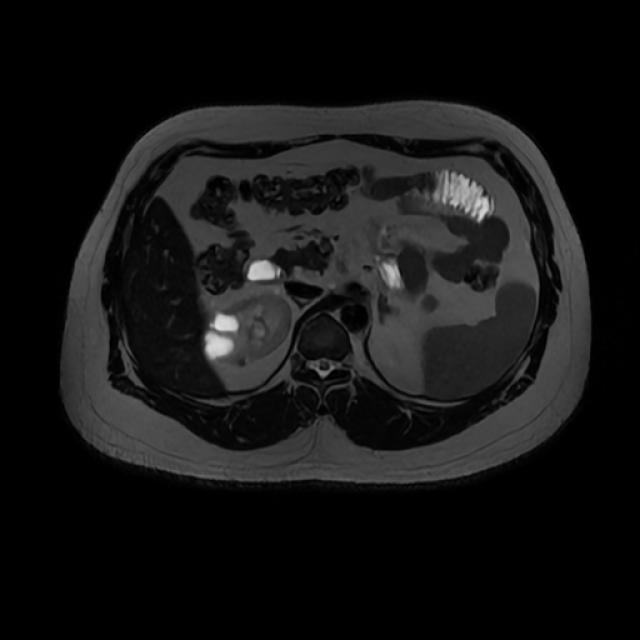sag: (203, 291, 292, 367)
